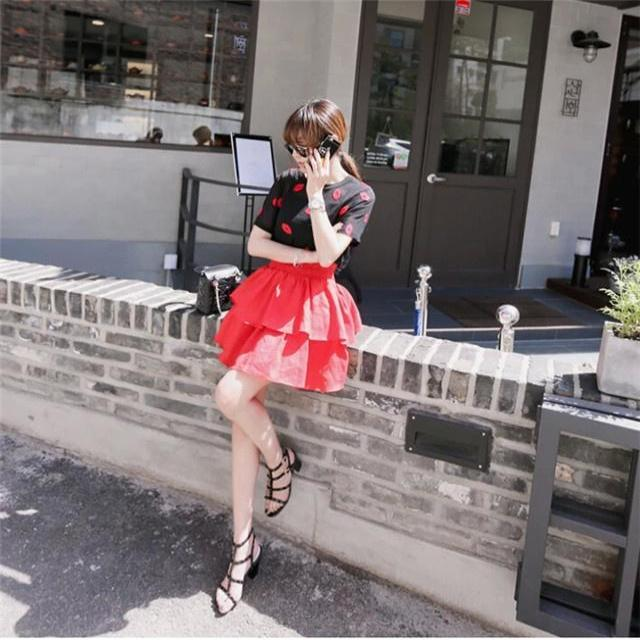short-sleeve-top: (247, 167, 378, 277)
skirt: (228, 279, 374, 397)
